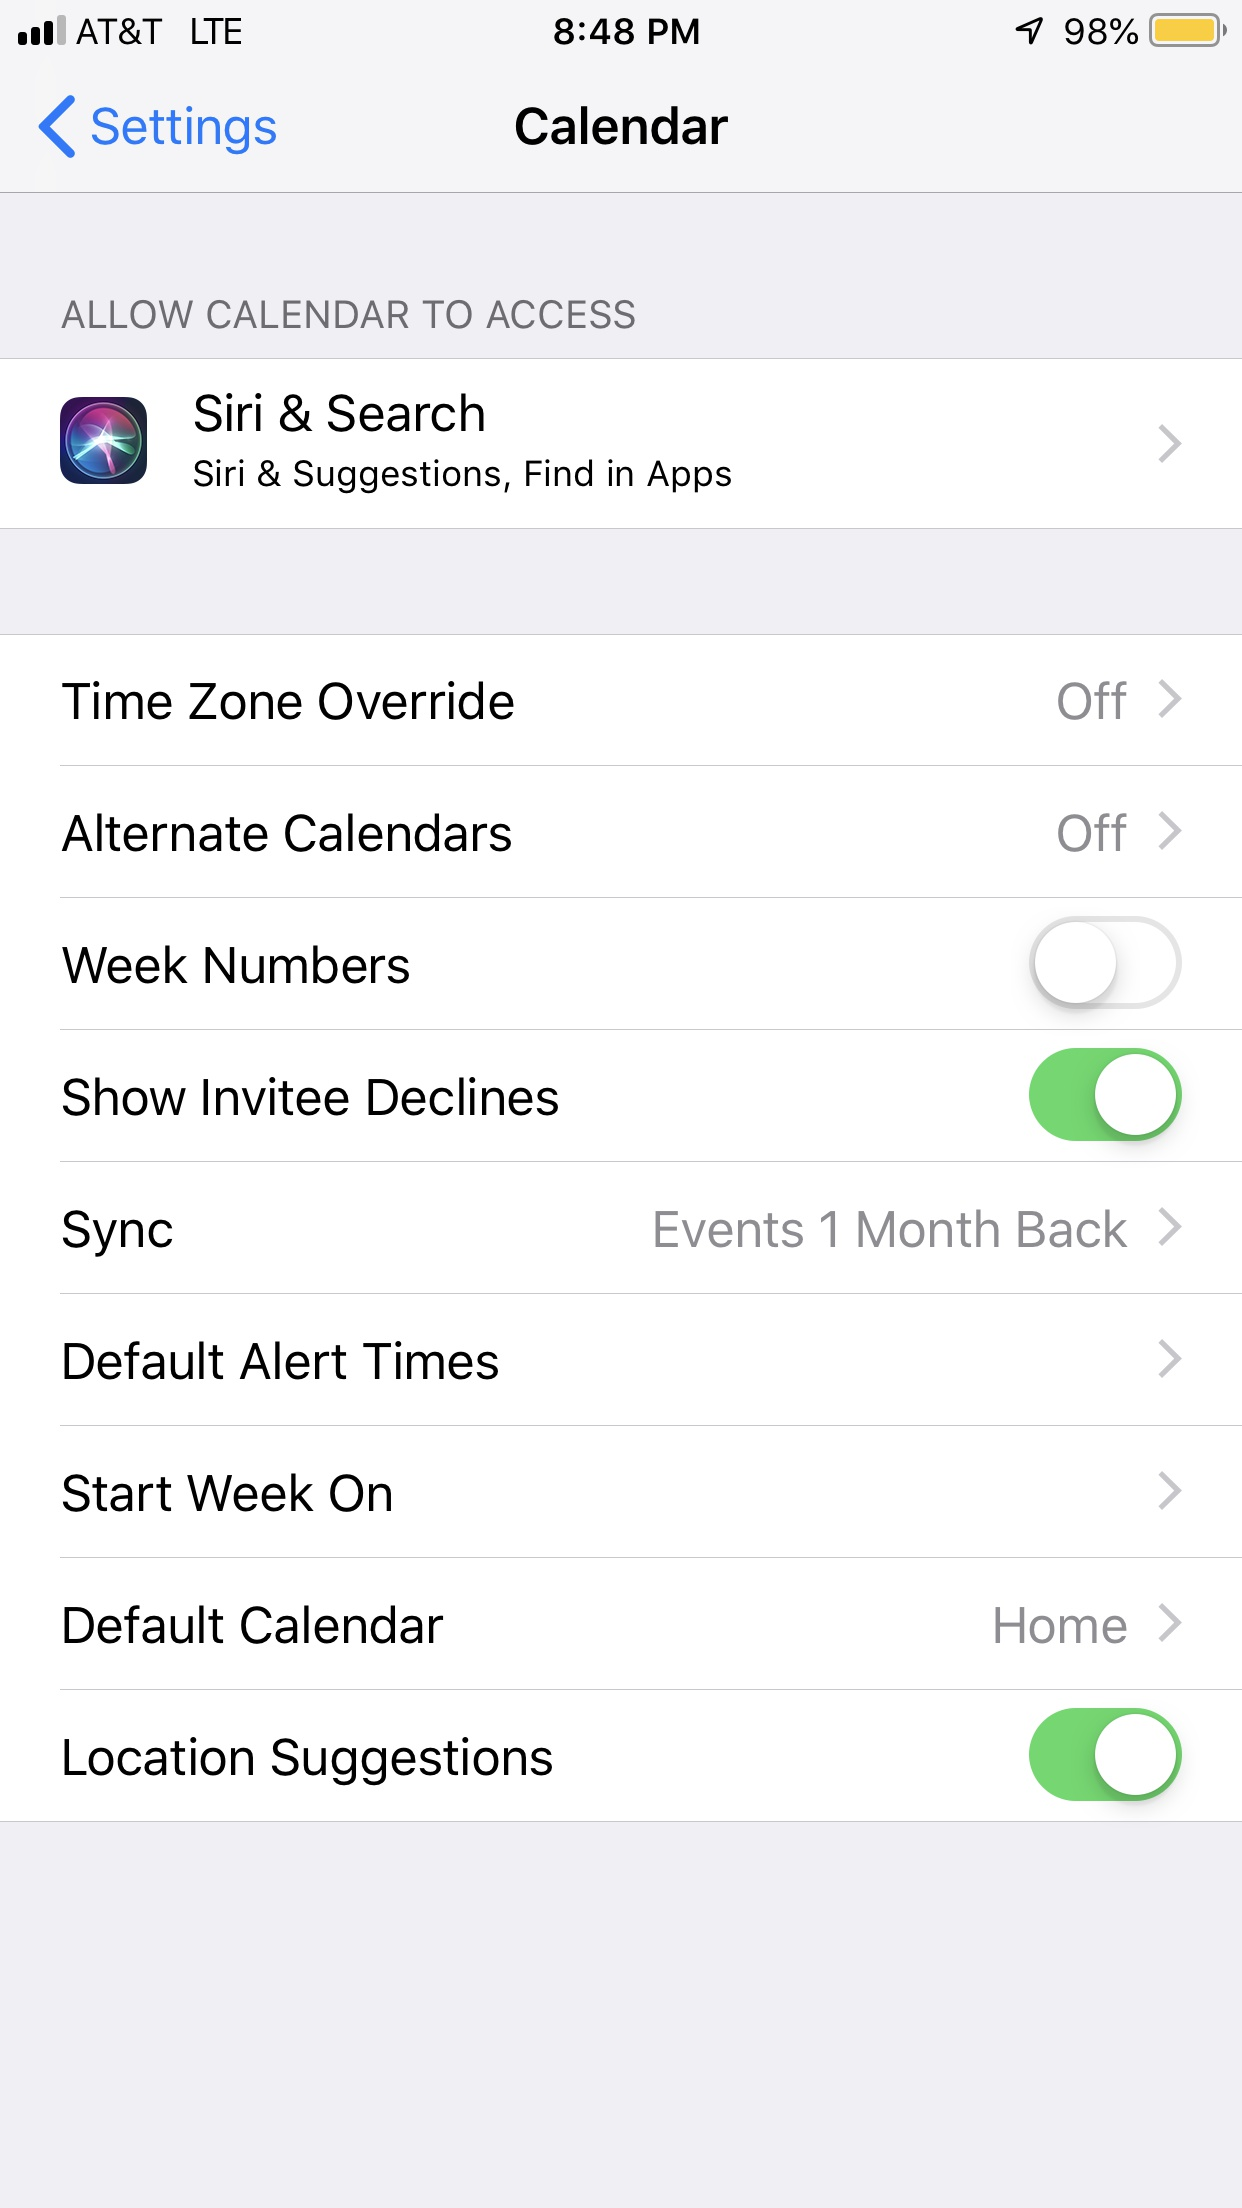Icon: (38, 96, 76, 161), (1157, 1206, 1183, 1247), (1159, 425, 1183, 466), (1159, 811, 1183, 852), (1159, 1338, 1183, 1378), (1159, 679, 1183, 719), (1159, 1471, 1183, 1510), (1159, 1603, 1183, 1642)
Image: (61, 397, 149, 485)
Switch: (1028, 1048, 1183, 1143), (1030, 914, 1183, 1010), (1030, 1708, 1183, 1802)
Text: (65, 1736, 554, 1786), (62, 1077, 560, 1118), (654, 1209, 1128, 1250), (194, 459, 732, 494), (62, 299, 635, 331), (62, 681, 516, 720), (64, 1341, 499, 1382), (61, 813, 513, 852), (65, 1604, 444, 1645), (64, 943, 411, 986), (64, 1473, 393, 1513), (196, 393, 485, 434), (93, 106, 278, 156), (516, 106, 729, 147), (64, 1209, 174, 1259), (993, 1607, 1128, 1645), (1057, 681, 1128, 722), (1057, 813, 1128, 854)
UpperTaskBar: (2, 2, 1242, 49)
